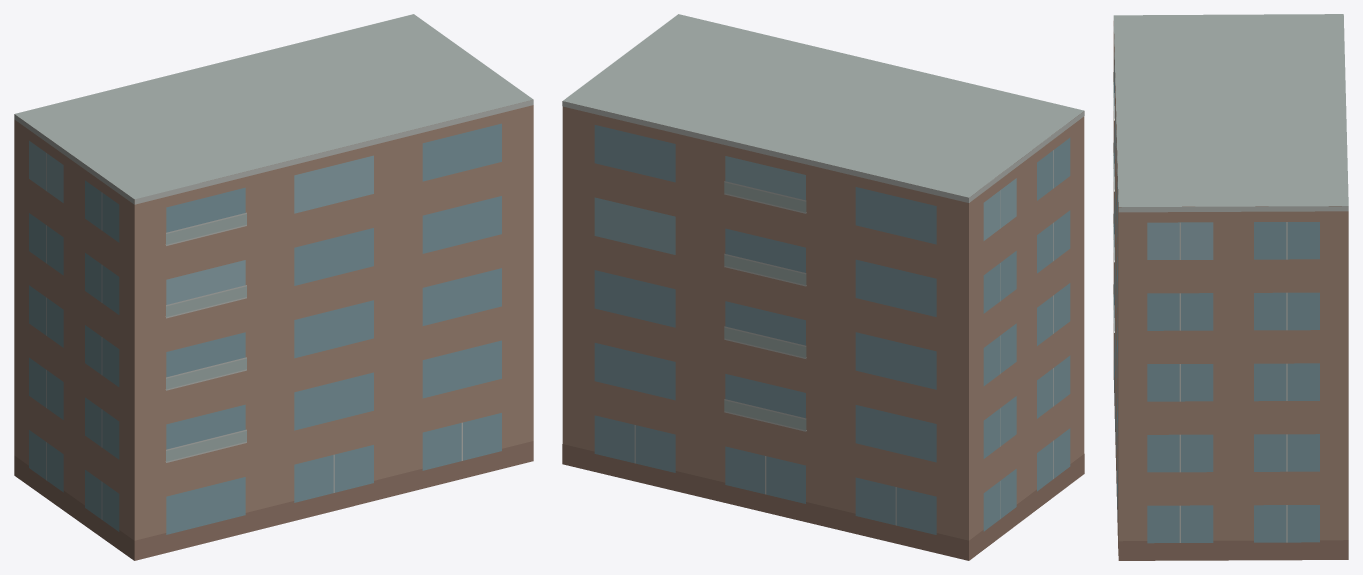
The model's file is survey-upis-32994420.glb.
3 renders of one model, left to right at view 1: azimuth 30°, elevation 25°; view 2: azimuth 150°, elevation 25°; view 3: azimuth 270°, elevation 25°, orthographic. The views are drawn at different scales.
Parts seen in each view (by area): view 1: survey-upis-32994420.tmp; view 2: survey-upis-32994420.tmp; view 3: survey-upis-32994420.tmp.
Boxes of the visible parts, x1,y1,x2,y2 form: survey-upis-32994420.tmp: (14, 14, 533, 560); survey-upis-32994420.tmp: (562, 14, 1084, 560); survey-upis-32994420.tmp: (1113, 14, 1348, 560).
Size of the model in its own units: 19.09 by 16.3 by 9.84.
